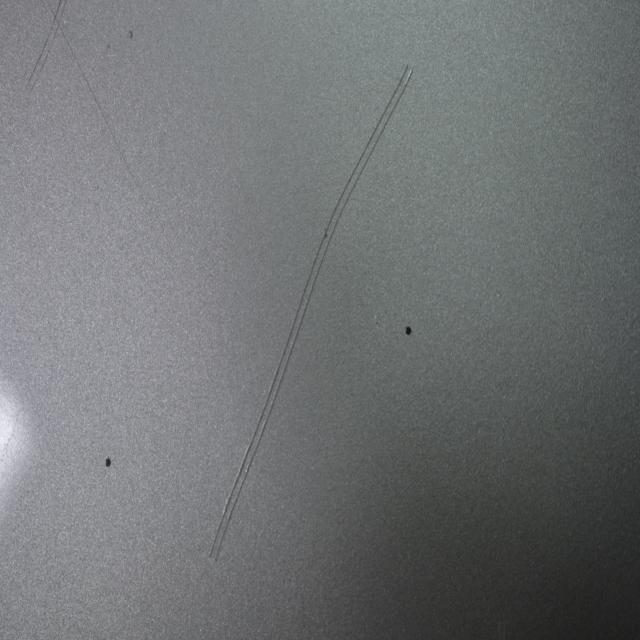dirt: (126, 24, 134, 44), (104, 453, 113, 469), (105, 41, 113, 55), (406, 323, 413, 337)
scratch: (204, 53, 418, 572), (44, 0, 144, 211), (21, 0, 71, 99)
